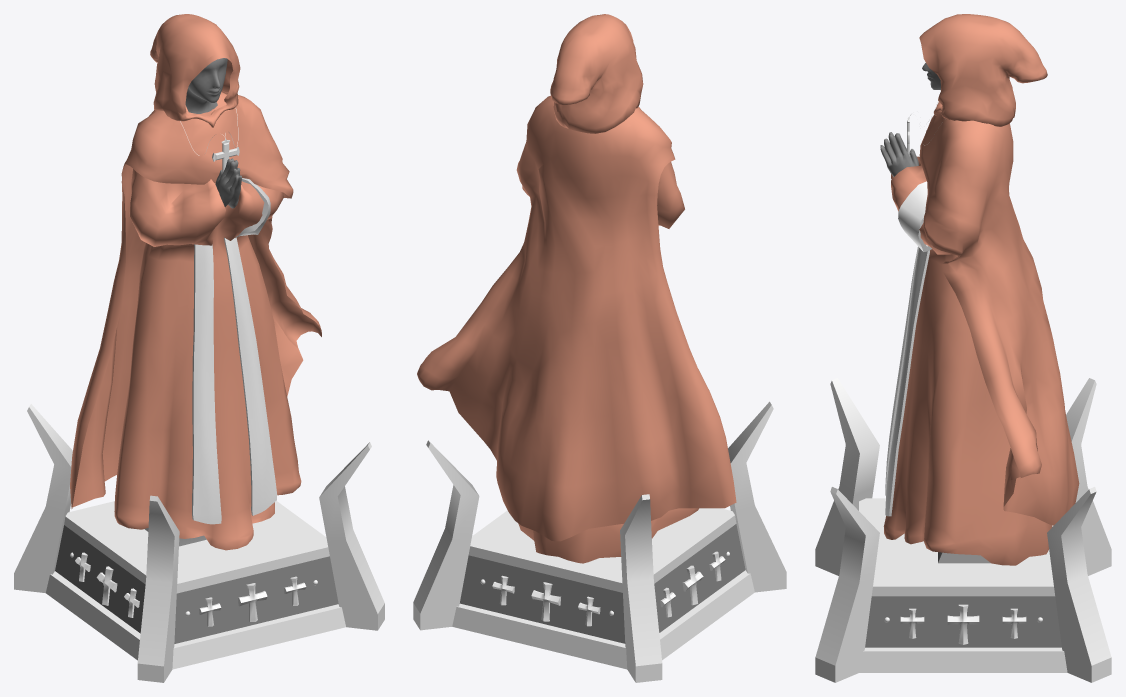
Rendered from Bishop_new (1).fbx.
3 renders of one model, left to right at view 1: azimuth 30°, elevation 25°; view 2: azimuth 150°, elevation 25°; view 3: azimuth 270°, elevation 25°, orthographic. The views are drawn at different scales.
Parts seen in each view (by area): view 1: Bishop_new; view 2: Bishop_new; view 3: Bishop_new.
Boxes of the visible parts, x1,y1,x2,y2 form: Bishop_new: [14, 14, 384, 682]; Bishop_new: [413, 14, 786, 682]; Bishop_new: [815, 14, 1111, 682].
Size of the model in its own units: 119 by 233 by 104.
